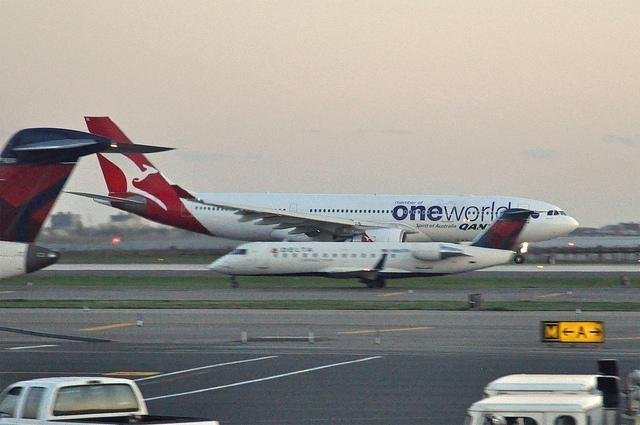truck: (0, 374, 221, 422), (470, 358, 638, 420)
